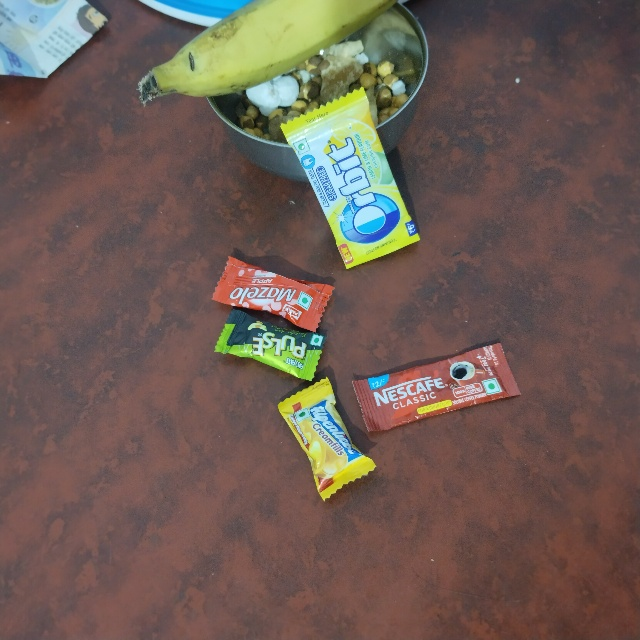Alpenlibe Creamfills: (270, 404, 339, 515)
Mazelo: (224, 249, 339, 302)
Nescafe Coffee: (351, 383, 507, 438)
Orbit: (275, 122, 369, 292)
Pulse: (227, 300, 329, 356)
